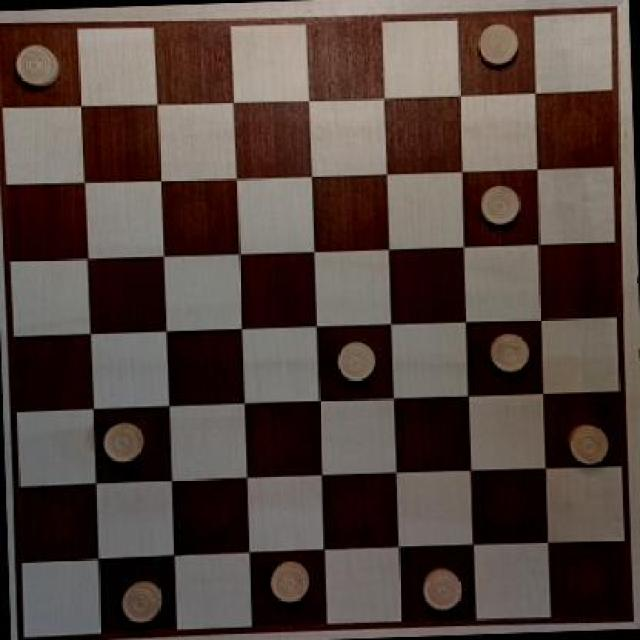BOARD: (7, 6, 617, 640)
white: (414, 561, 470, 618), (257, 555, 315, 607), (10, 37, 61, 91), (330, 338, 380, 386), (564, 418, 614, 466), (474, 186, 525, 232), (470, 22, 518, 68), (123, 576, 166, 624), (484, 334, 531, 377), (100, 421, 145, 463)
